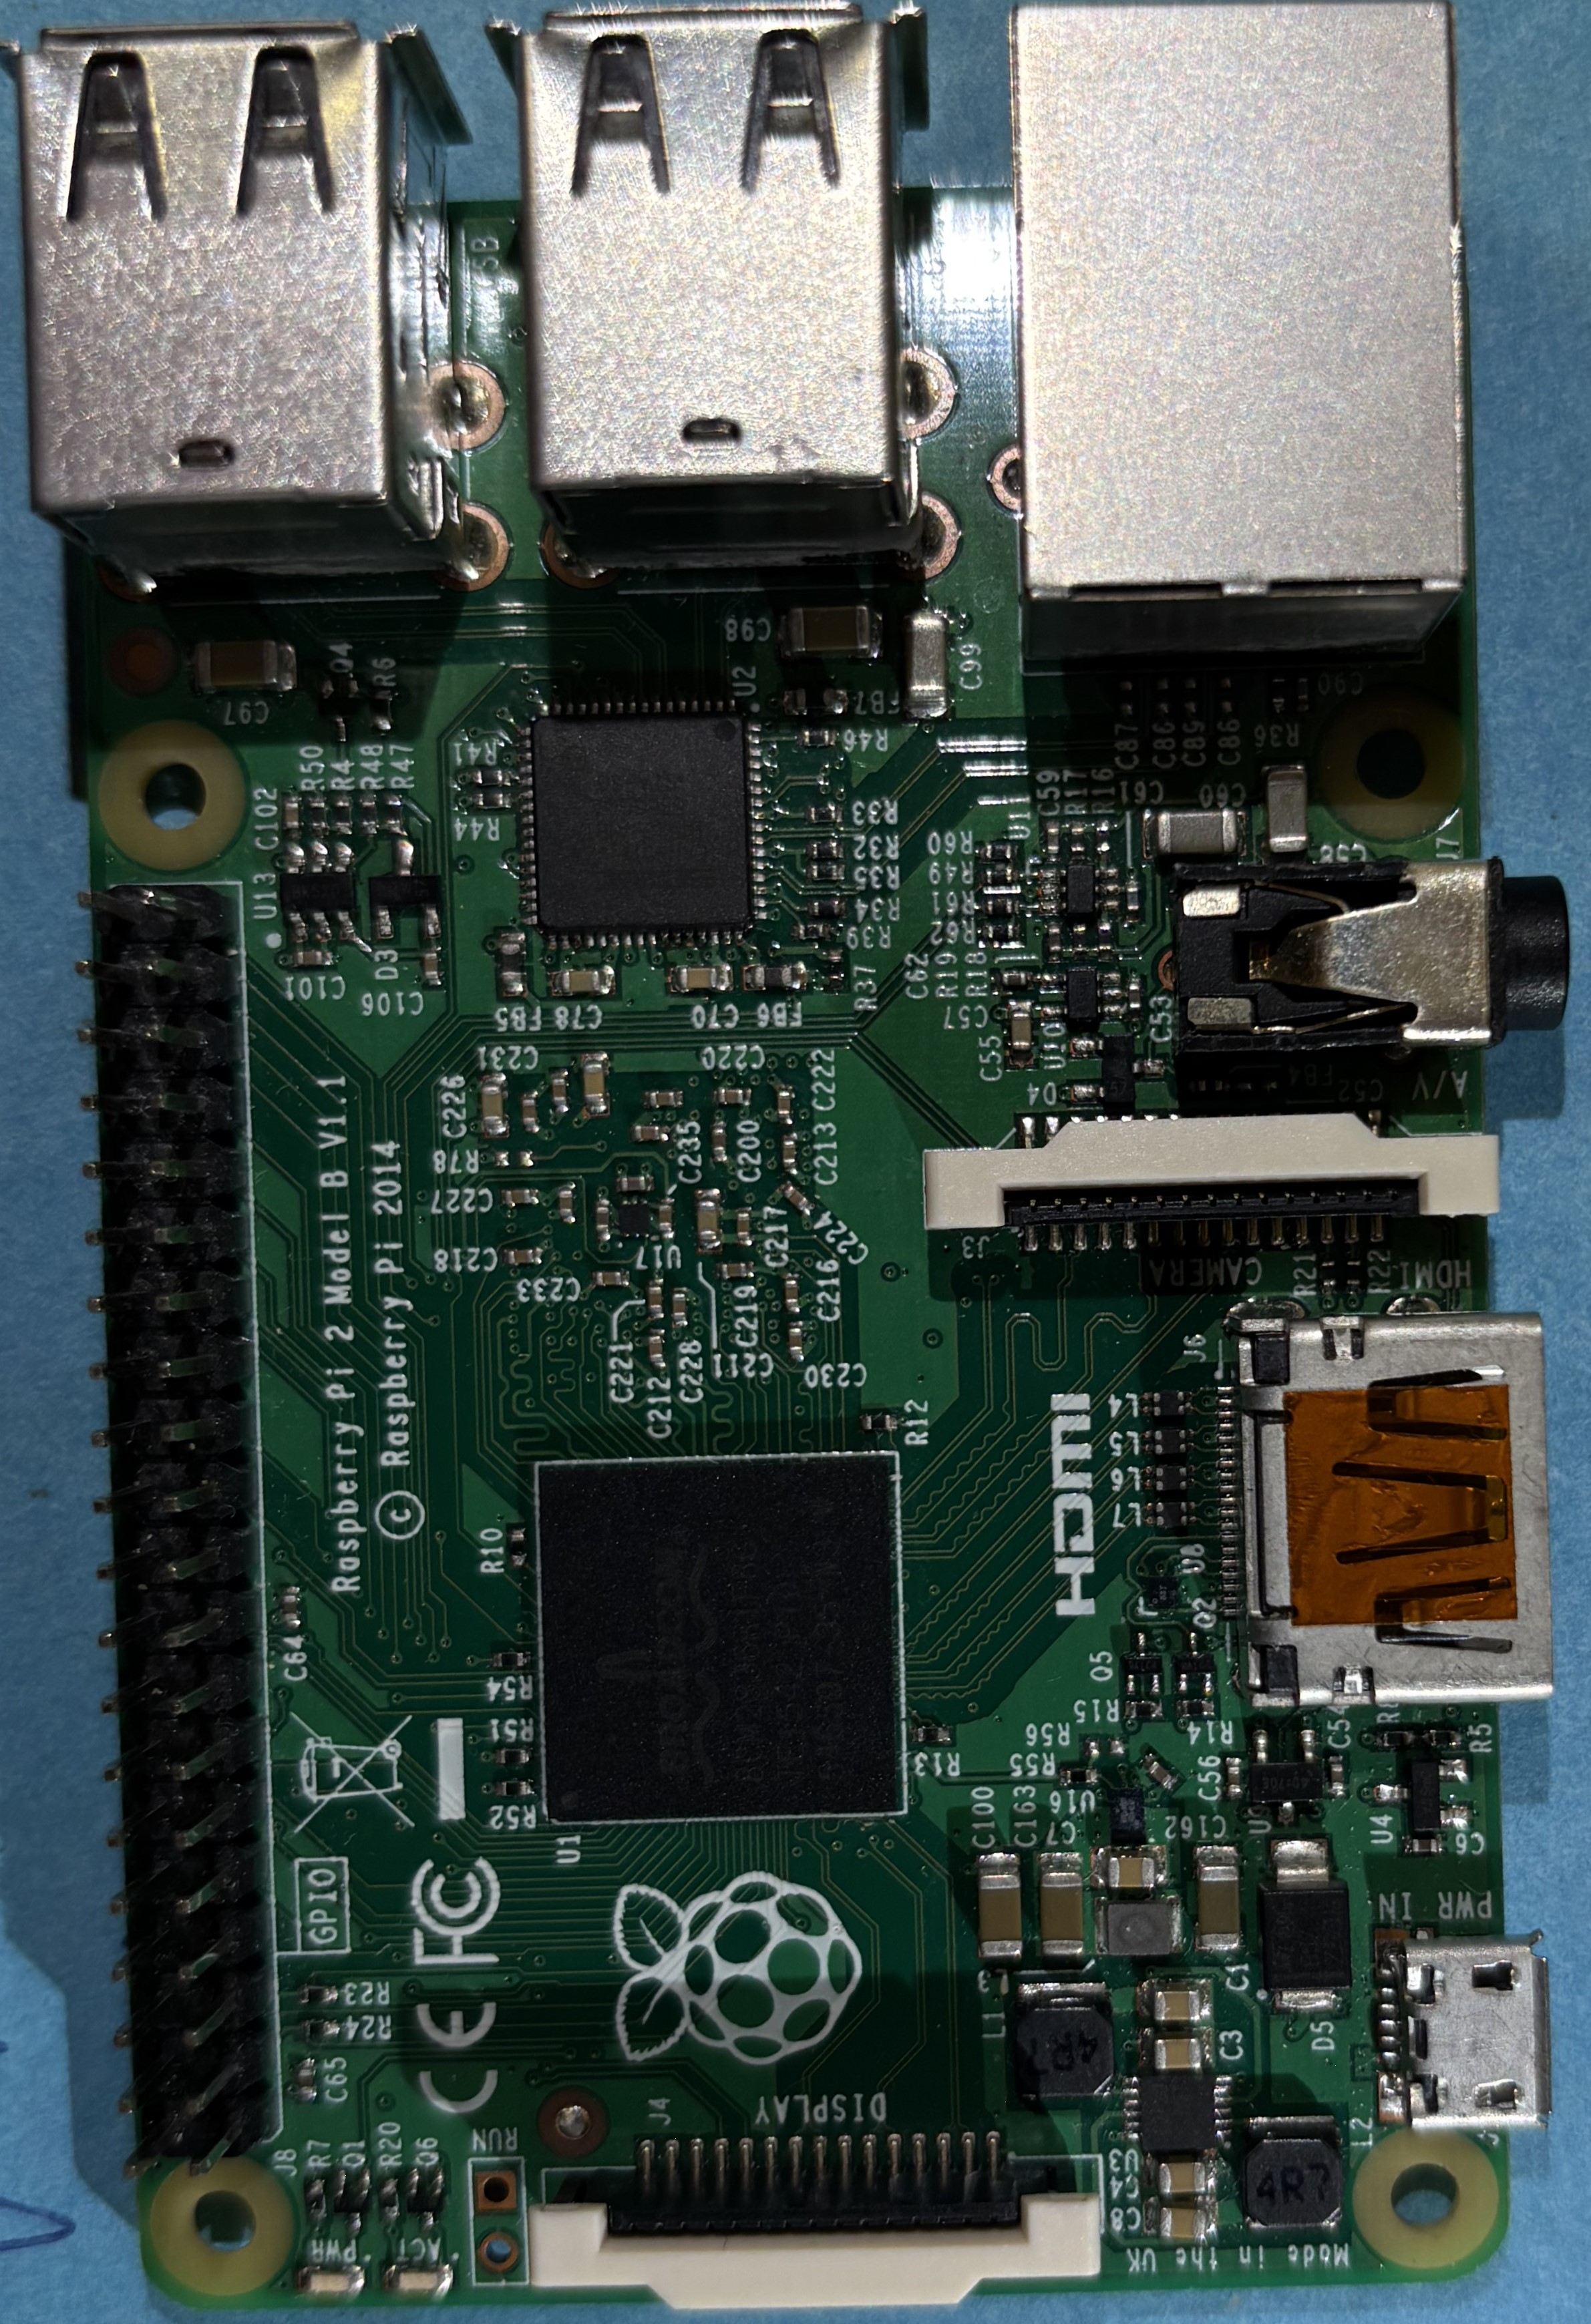Induktor: (1007, 1987, 1112, 2093), (1241, 2124, 1344, 2229), (1098, 1898, 1180, 1957), (1144, 1499, 1197, 1526), (1144, 1464, 1195, 1489), (1144, 1429, 1195, 1452), (1142, 1392, 1192, 1415)
